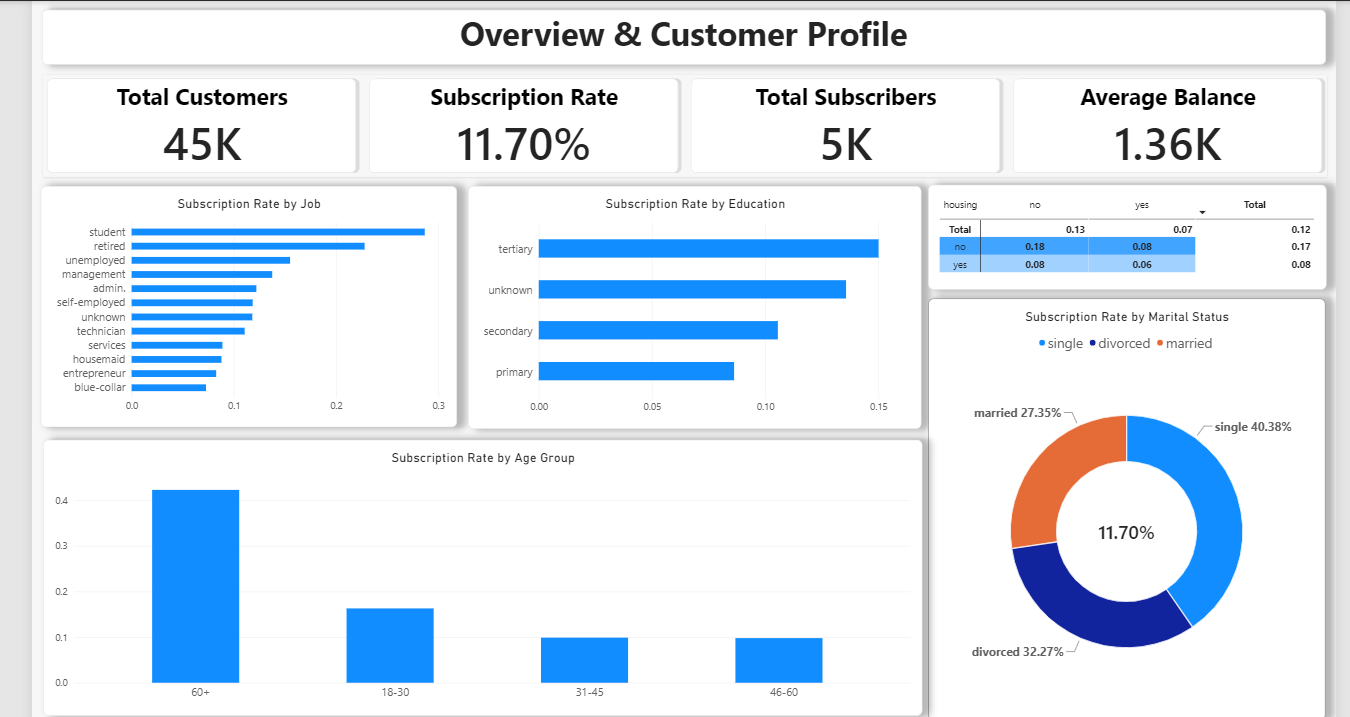

Layout of this report page (visuals, bound fields, positions):
{"tool":"powerbi","page":{"name":"Page 1","canvas":[1920,1080],"ordinal":0},"visuals":[{"type":"textbox","box":[14.7,12.9,1890.2,81],"z":0},{"type":"cardVisual","fields":{"Data":["marketdatabase.total_customers","marketdatabase.subscription_rate","marketdatabase.total_subscribers","marketdatabase.avg_balance"]},"box":[16.6,108.6,1890,150],"z":1000},{"type":"barChart","title":"Subscription Rate by Job","fields":{"Category":["marketdatabase.job"],"Y":["marketdatabase.subscription_rate"]},"box":[12.5,272.5,612.5,355],"z":2000},{"type":"barChart","title":"Subscription Rate by Education","fields":{"Category":["marketdatabase.education"],"Y":["marketdatabase.subscription_rate"]},"box":[642.5,272.5,667.5,357.5],"z":3000},{"type":"donutChart","title":"Subscription Rate by Marital Status","fields":{"Category":["marketdatabase.marital"],"Y":["marketdatabase.subscription_rate"]},"box":[1320,438.9,584.4,621],"z":4000},{"type":"pivotTable","fields":{"Columns":["marketdatabase.loan"],"Rows":["marketdatabase.housing"],"Values":["marketdatabase.subscription_rate"]},"box":[1320,270,586,154],"z":5000},{"type":"columnChart","title":"Subscription Rate by Age Group","fields":{"Category":["marketdatabase.age_group"],"Y":["marketdatabase.Subscription Rate"]},"box":[16,646,1294,406],"z":6000}]}

Visuals, with their boxes on the page's 1920x1080 design canvas (x1, y1, x2, y2). These are canvas units, not pixel positions in the 1350x717 screenshot, which may show the page scaled, cropped or inside an application window:
textbox: crop(15, 13, 1905, 94)
cardVisual - marketdatabase.total_customers x marketdatabase.subscription_rate: crop(17, 109, 1907, 259)
"Subscription Rate by Job" barChart: crop(12, 272, 625, 628)
"Subscription Rate by Education" barChart: crop(642, 272, 1310, 630)
"Subscription Rate by Marital Status" donutChart: crop(1320, 439, 1904, 1060)
pivotTable - marketdatabase.loan x marketdatabase.housing: crop(1320, 270, 1906, 424)
"Subscription Rate by Age Group" columnChart: crop(16, 646, 1310, 1052)
